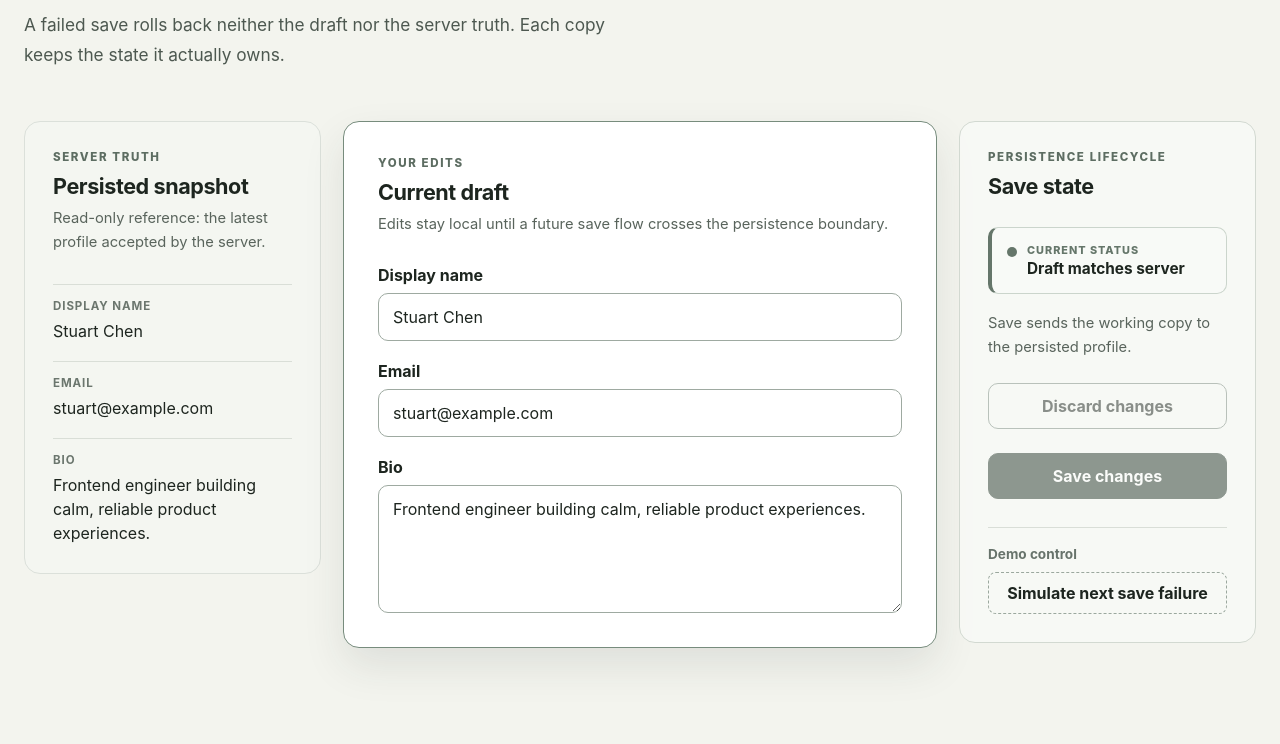
Test: DayTwoPage profile ownership › arms one simulated failure for the next real save, then retries normally
(page scrolled)
Click the button "Simulate next save failure".
click(1108, 593)  # box 988,572 -> 1227,614
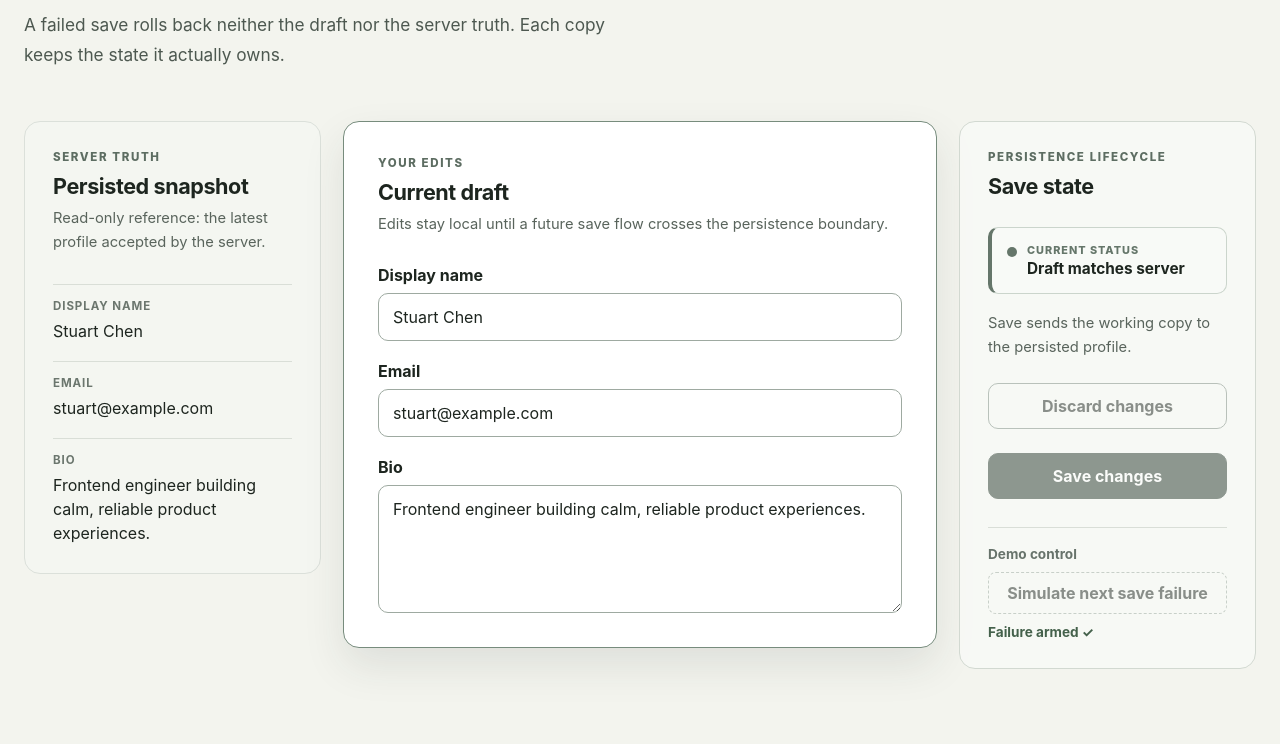
Check: the text "Failure armed ✓" is shown, box 988,624 -> 1094,640
Check: the button "Simulate next save failure" is disabled, box 988,572 -> 1227,614
Replace the text in the field labelled "Display name" with "Penguin" at point(640, 317), box 378,293 -> 902,341
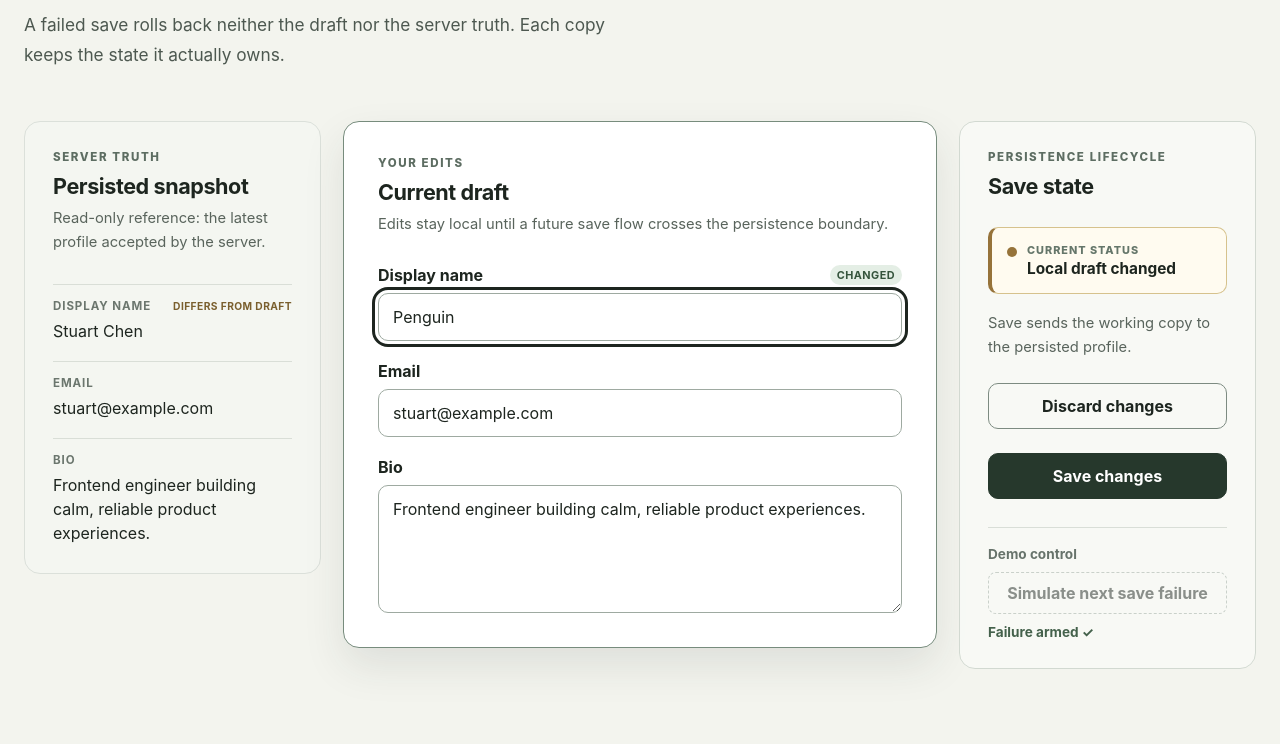
Click the button "Save changes".
click(1108, 476)  # box 988,453 -> 1227,499
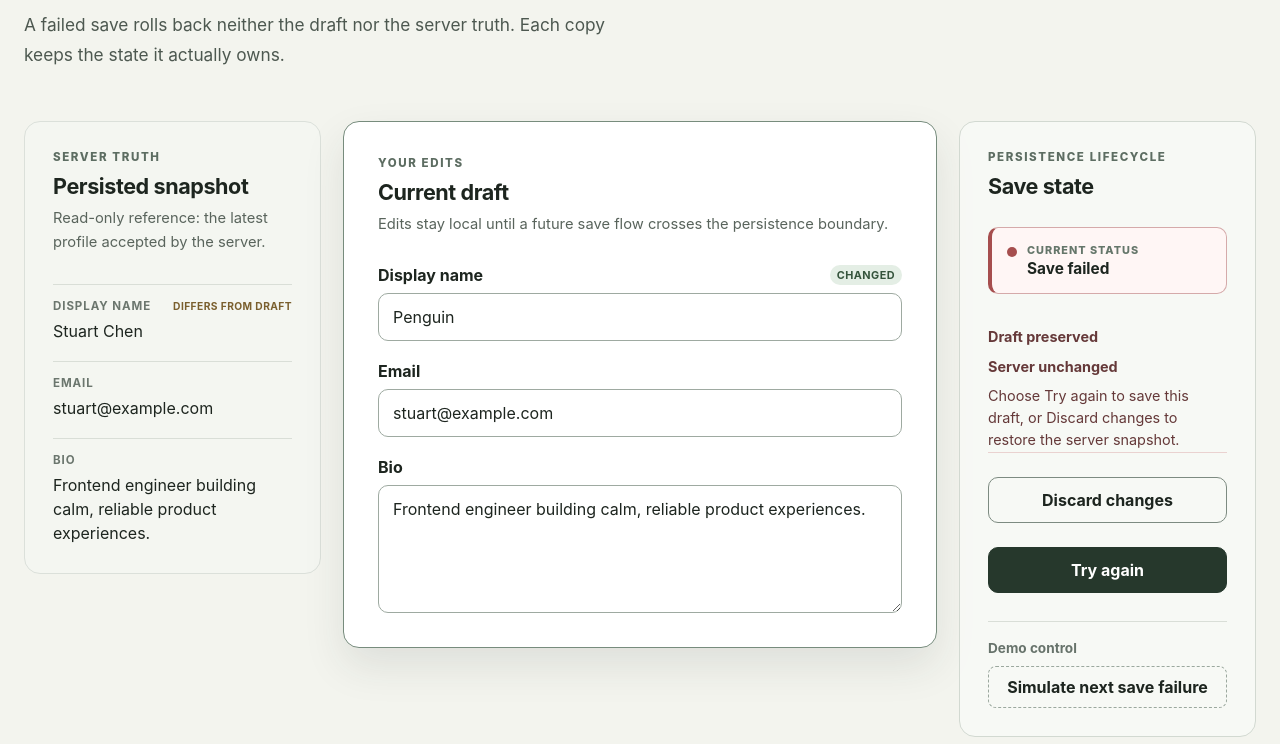
Check: the text "Save failed" is shown, box 1027,259 -> 1109,278
Check: the text "Failure armed ✓" is gone
Click the button "Try again".
click(1108, 570)  # box 988,547 -> 1227,593
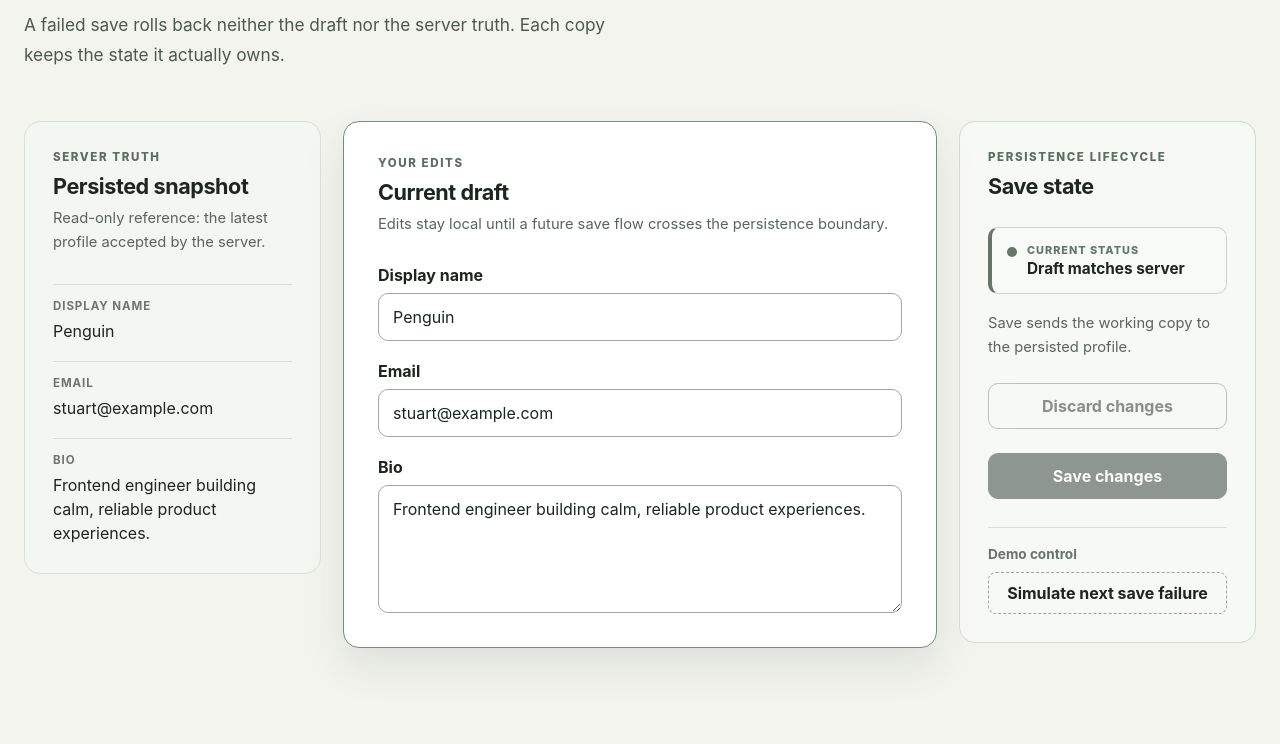
Check: the message reads "Draft matches server", box 1027,259 -> 1185,278
